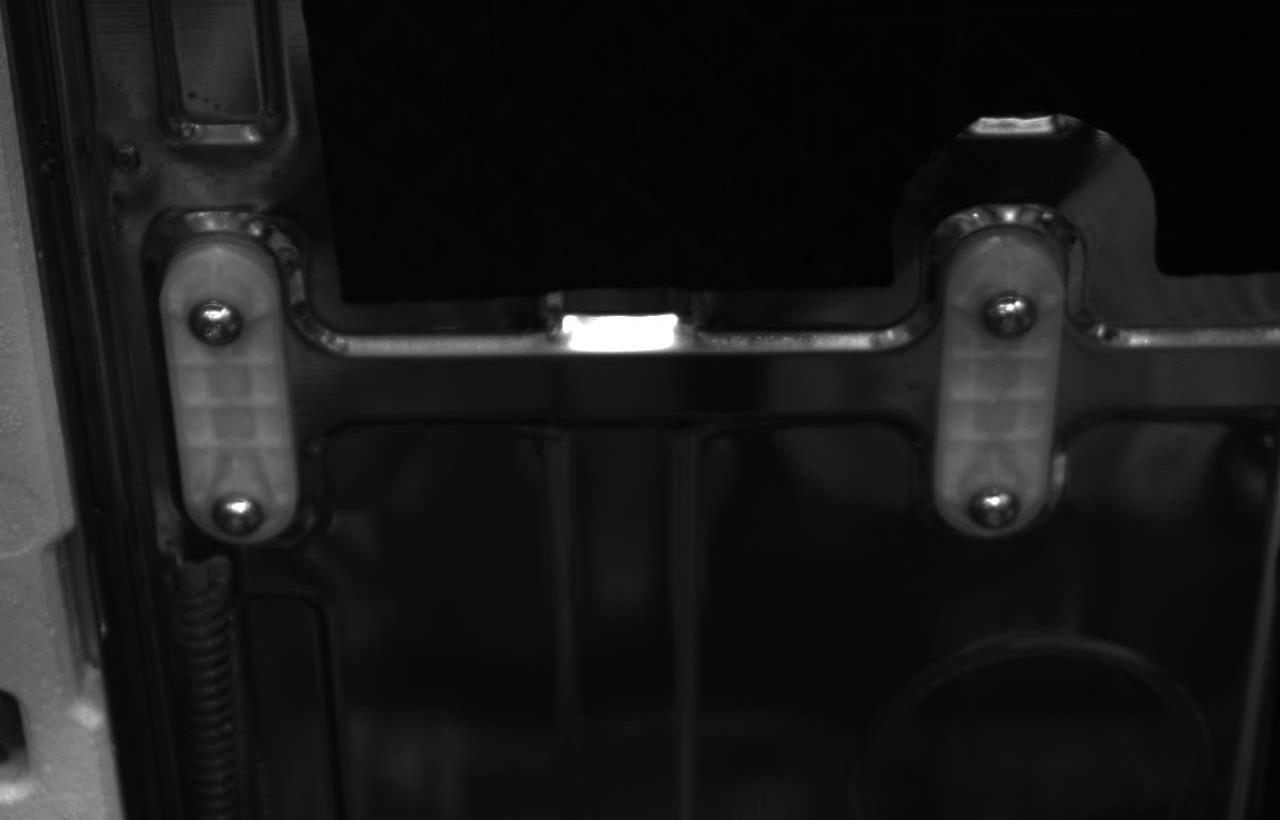vida-ok: (180, 285, 251, 352), (979, 281, 1046, 348), (961, 467, 1027, 535), (207, 484, 273, 542)
